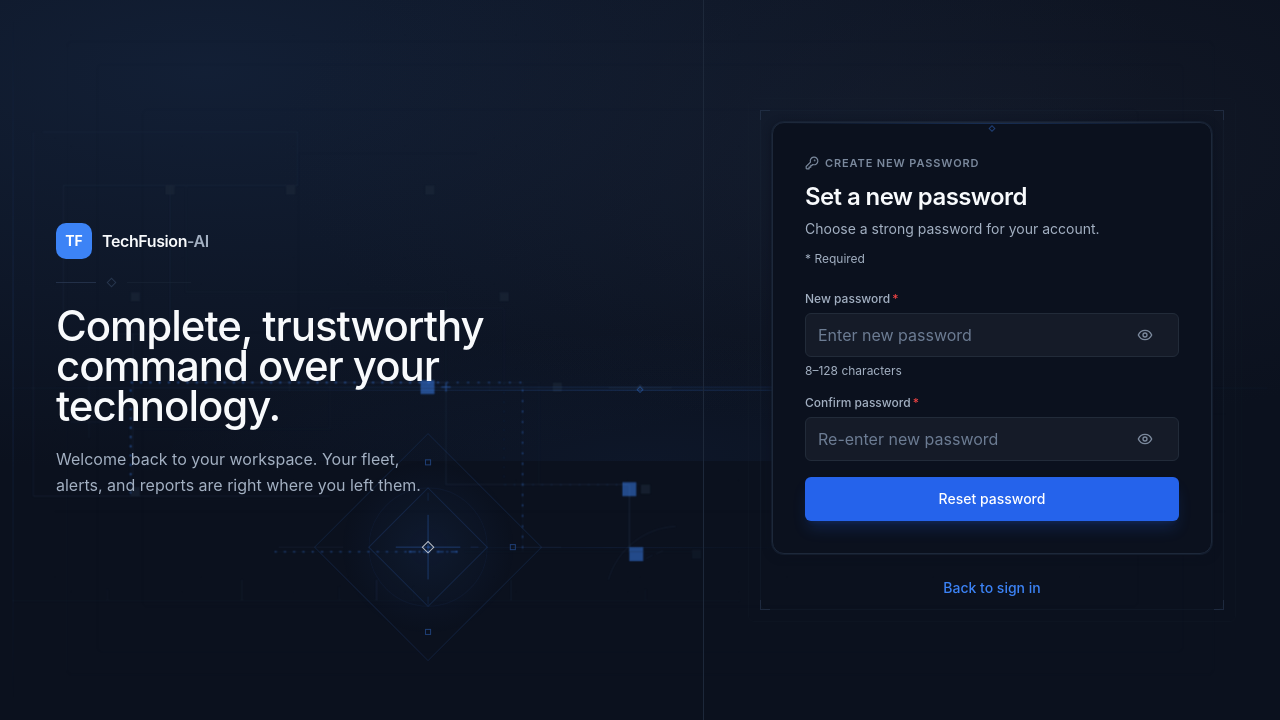
Test: ResetPasswordForm -- validation › 15: rejects empty confirm field on submit
Type "ValidPass123" into the password field labelled "New password*". click: (992, 335)
box: [805, 313, 1179, 357]
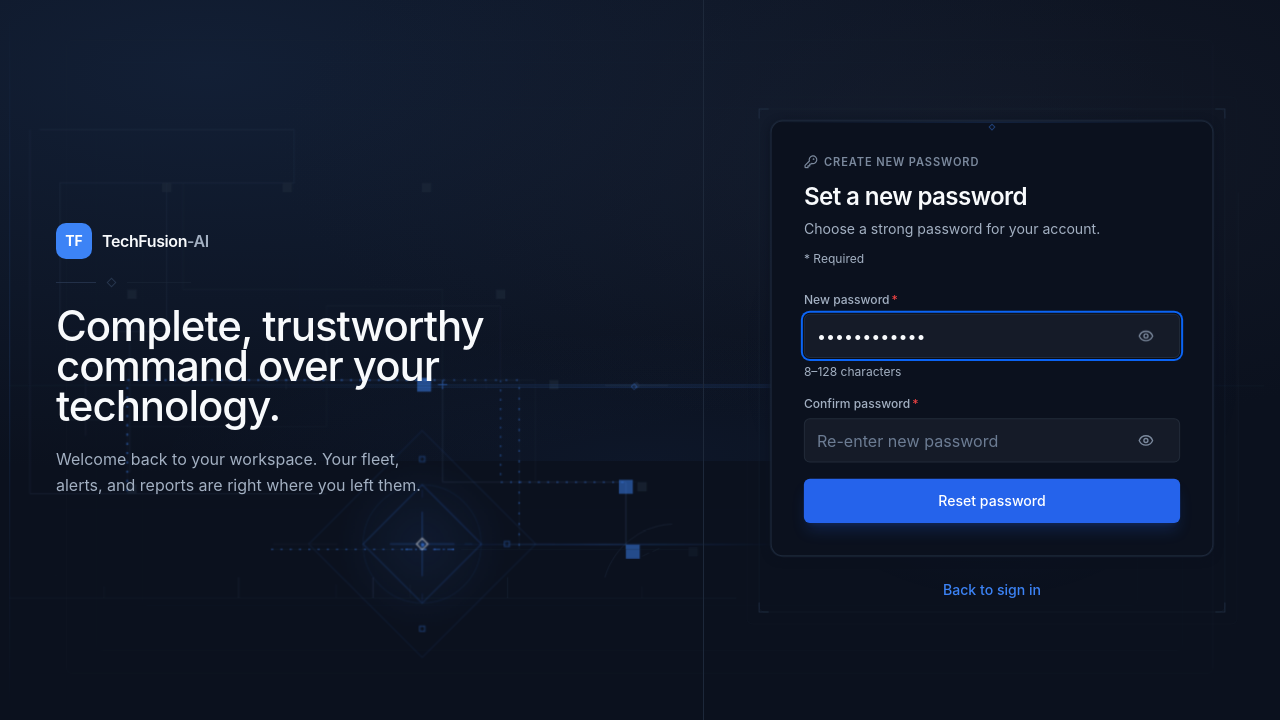
Click the button "Reset password". click: (992, 500)
box: [804, 478, 1180, 522]
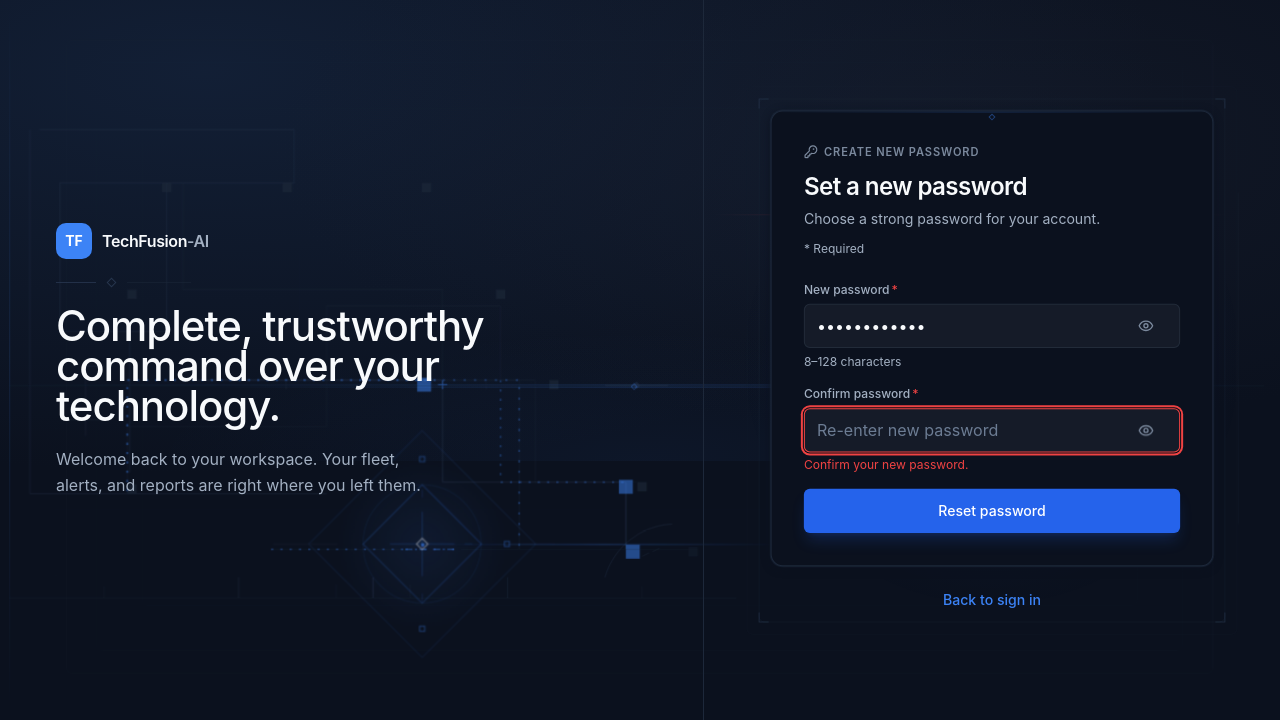
Now the text "Confirm your new password." is shown, box [804, 456, 968, 471]
